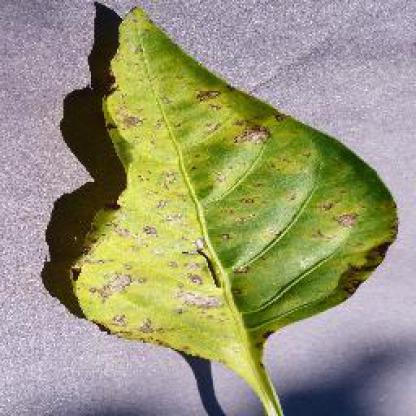bad leaf: (90, 43, 187, 333), (173, 224, 258, 322), (309, 198, 389, 291), (194, 80, 292, 152)
